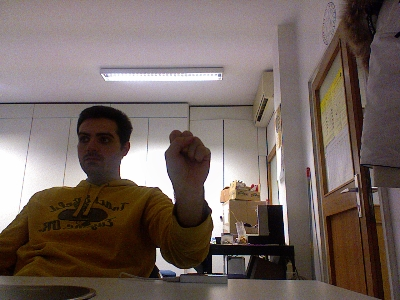石头: (164, 128, 211, 188)
